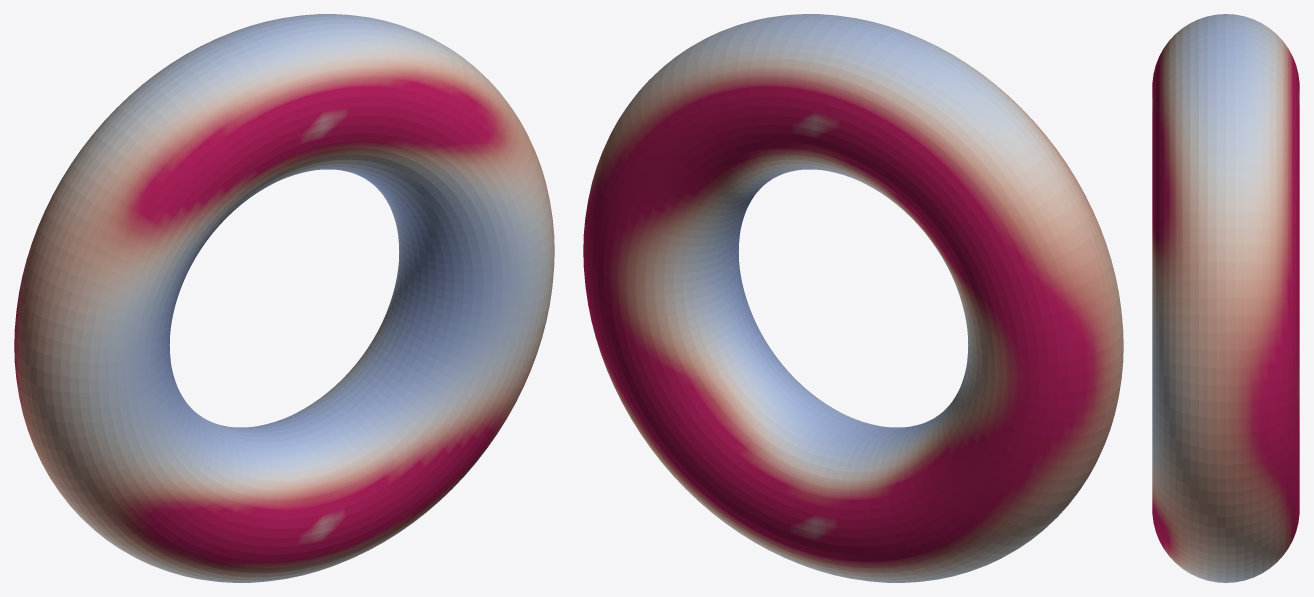
The picture shows the model from 3 angles, left to right: view 1: azimuth 30°, elevation 25°; view 2: azimuth 150°, elevation 25°; view 3: azimuth 270°, elevation 25°; orthographic projection. The views are drawn at different scales.
Parts seen in each view (by area): view 1: world; view 2: world; view 3: world.
Boxes of the visible parts, <box> form: world: <box>14,14,554,582</box>; world: <box>583,14,1123,582</box>; world: <box>1152,14,1299,582</box>.
Size of the model in its own units: 25.2 by 25.2 by 6.52.
